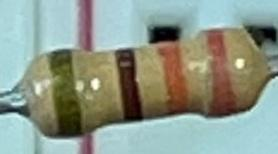Brown: (117, 45, 146, 128)
Orange: (158, 41, 191, 114)
Red: (206, 28, 238, 120)
Side-Gold: (46, 47, 86, 136)
